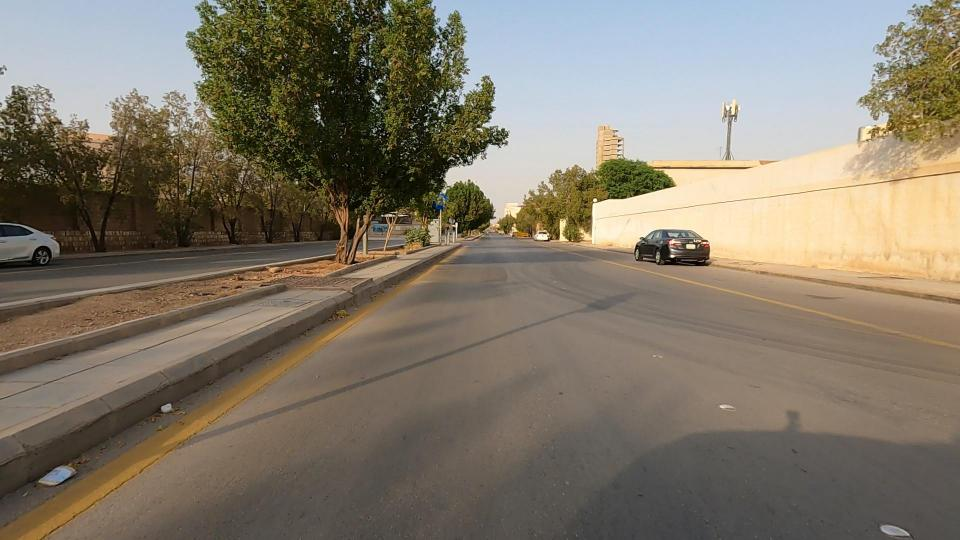GARBAGE: (0, 415, 114, 520), (112, 363, 217, 451)
